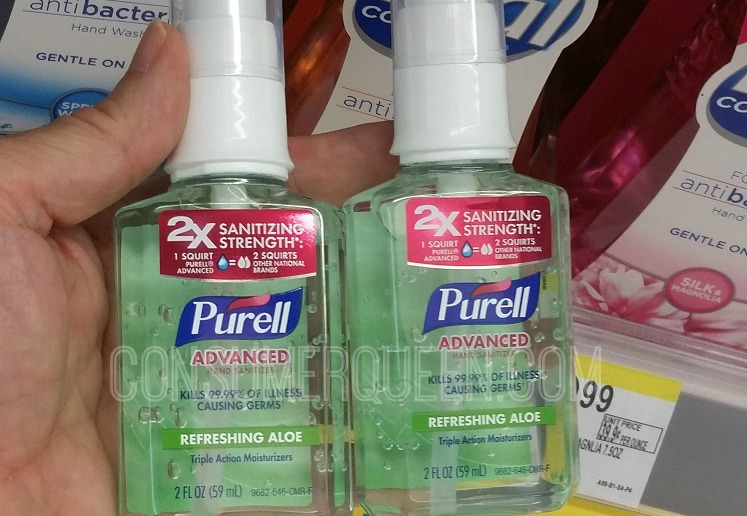Sanitizer: (335, 3, 588, 516), (105, 1, 356, 516)
